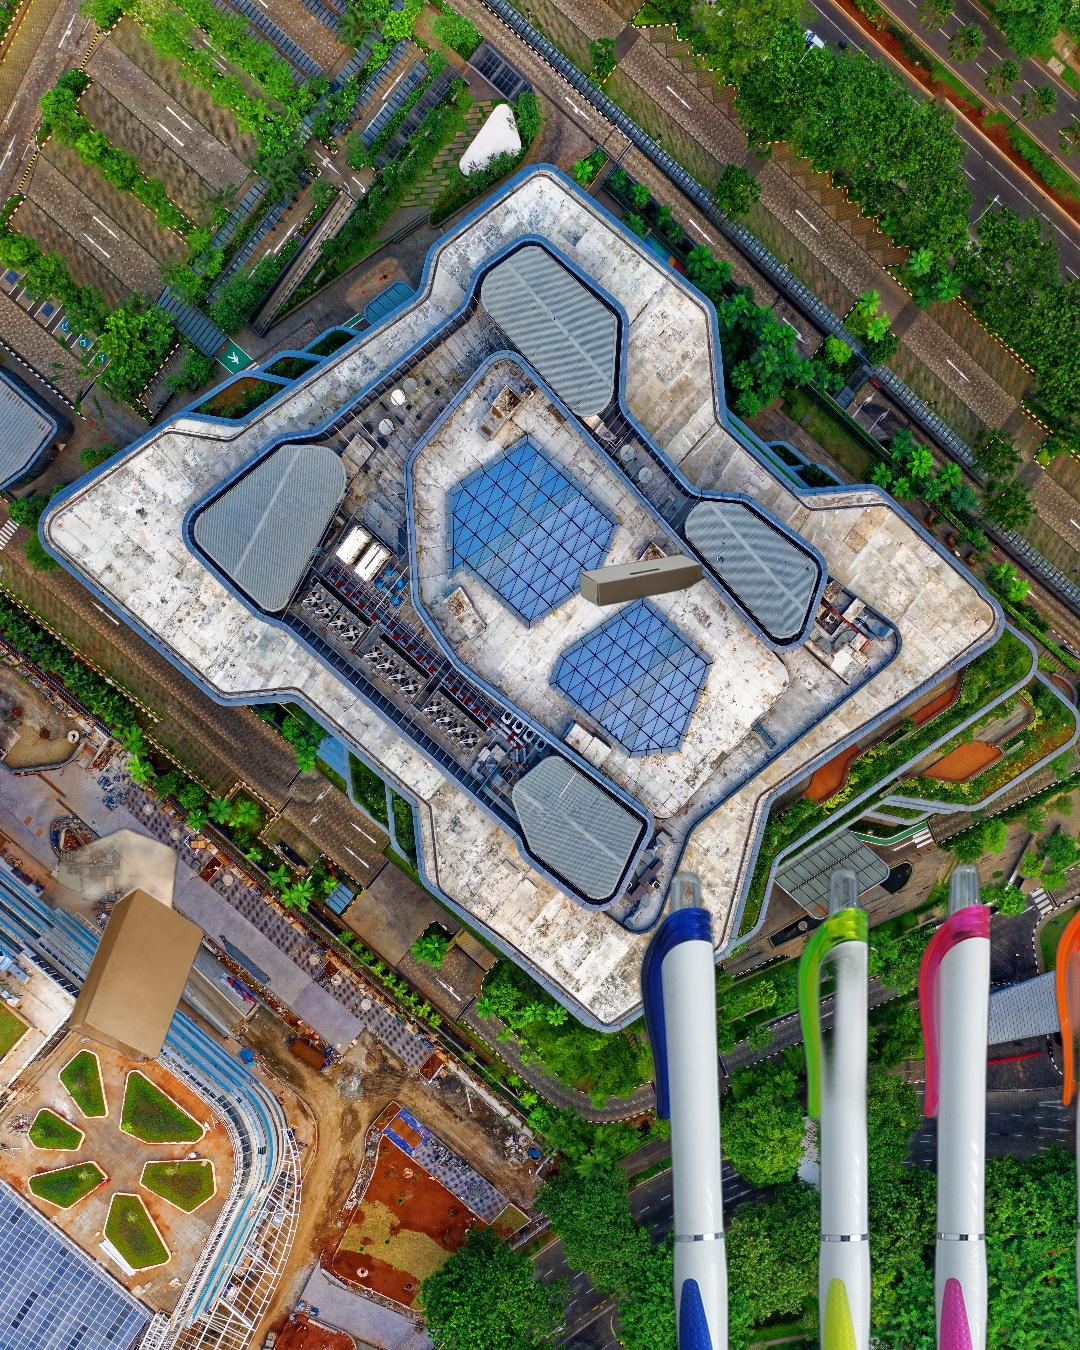paper-bag: (25, 824, 206, 1063)
penholder: (633, 844, 1080, 1350)
trashbox-cardboard: (577, 552, 873, 790)
